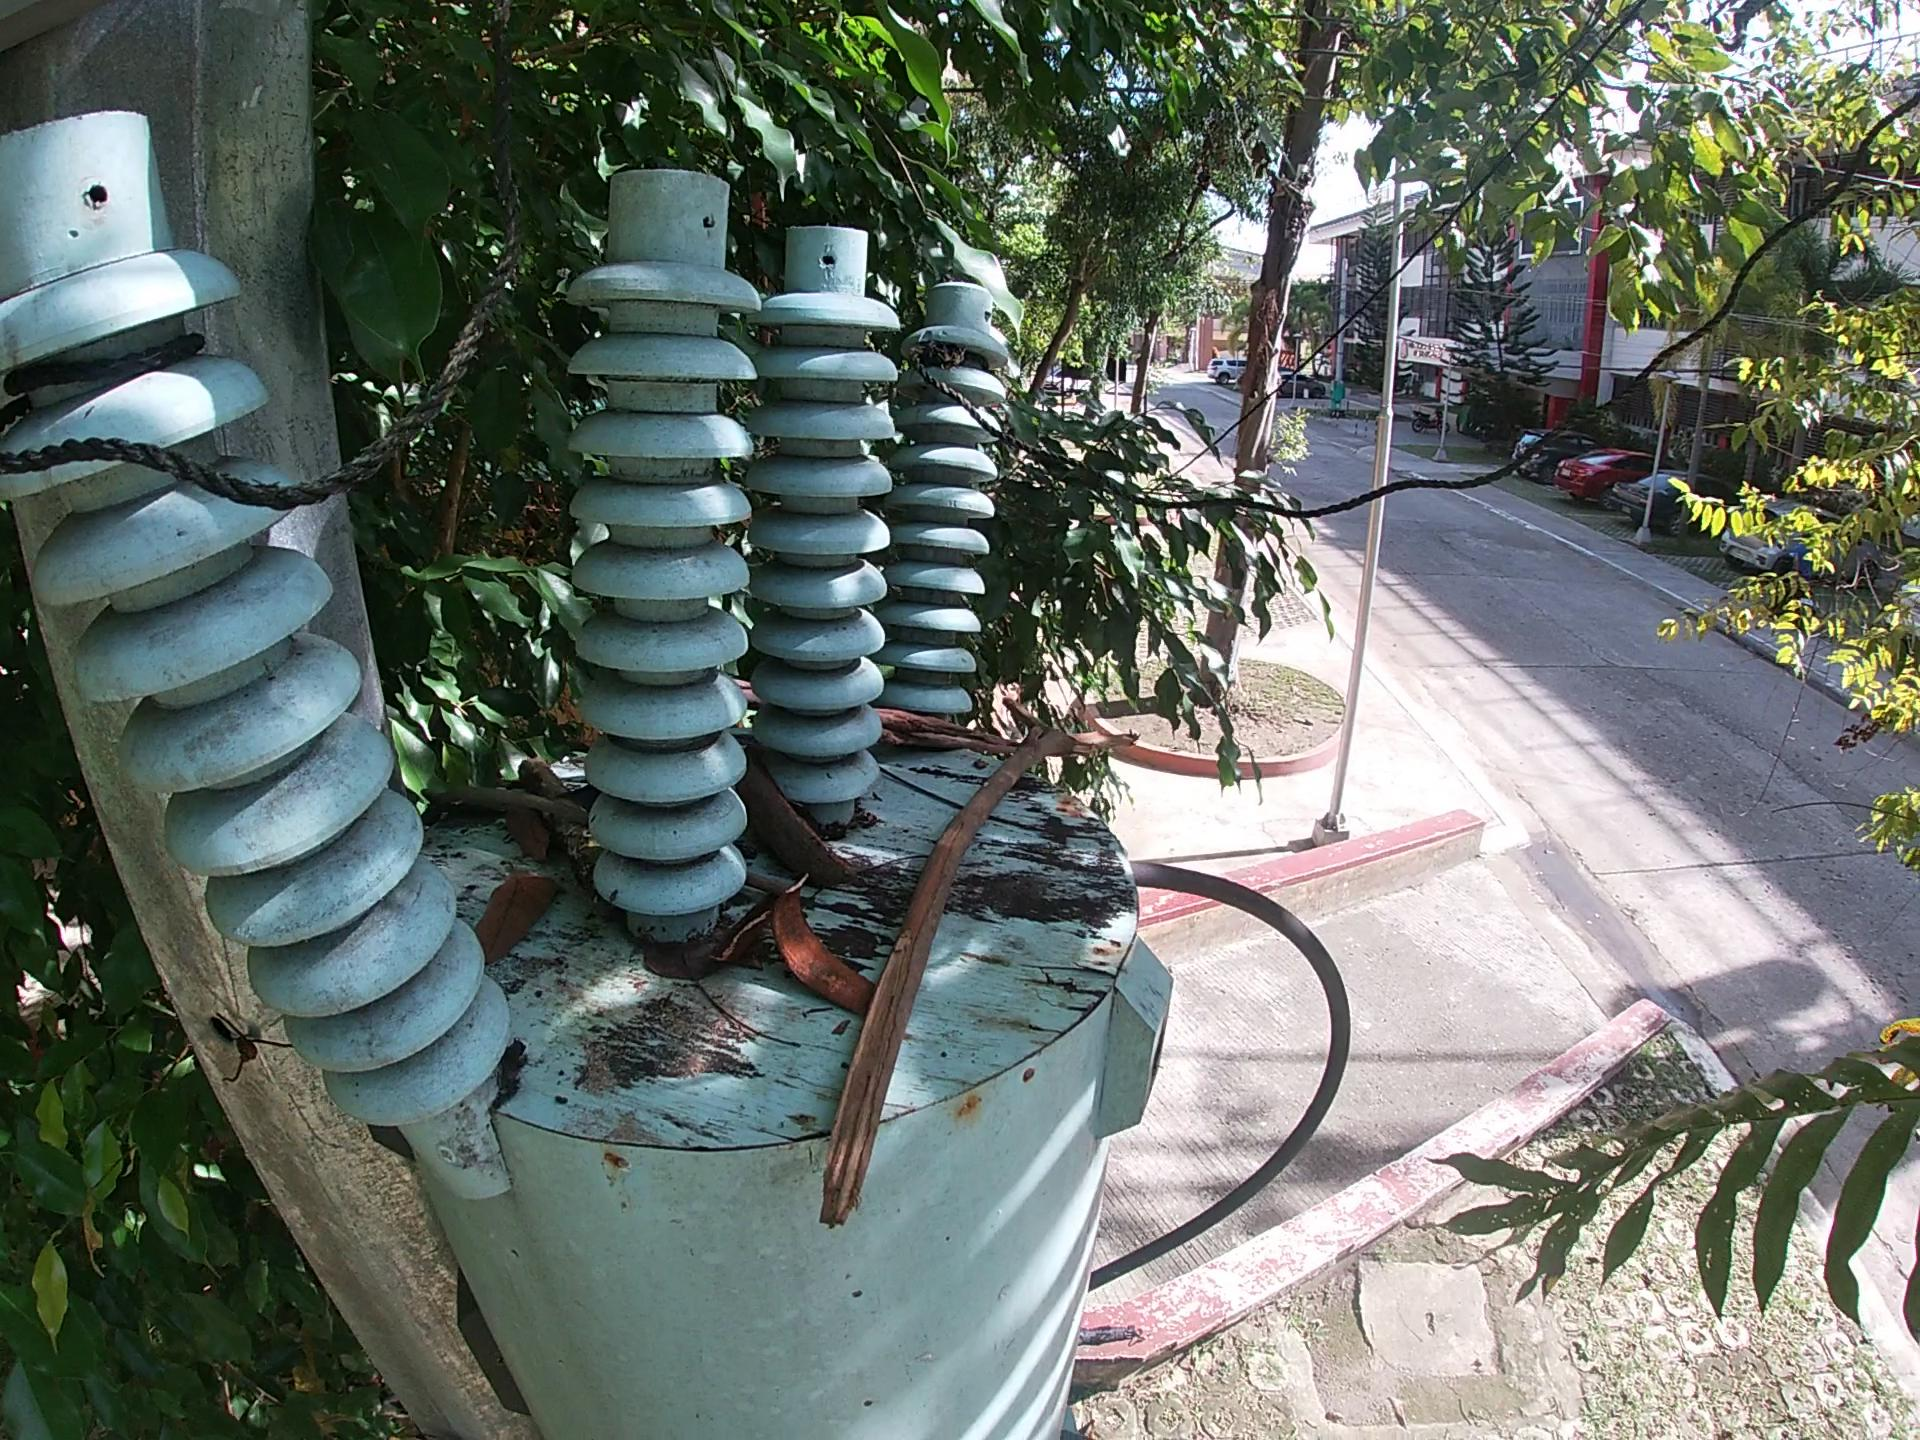leaf: (466, 864, 559, 970), (635, 935, 720, 989), (503, 808, 550, 862)
mahogany fruit: (736, 749, 859, 891), (770, 868, 880, 1015), (712, 892, 776, 967)
tree branch: (810, 697, 1141, 1233), (509, 753, 599, 898), (872, 702, 1023, 762), (413, 787, 596, 830), (742, 867, 795, 895)
